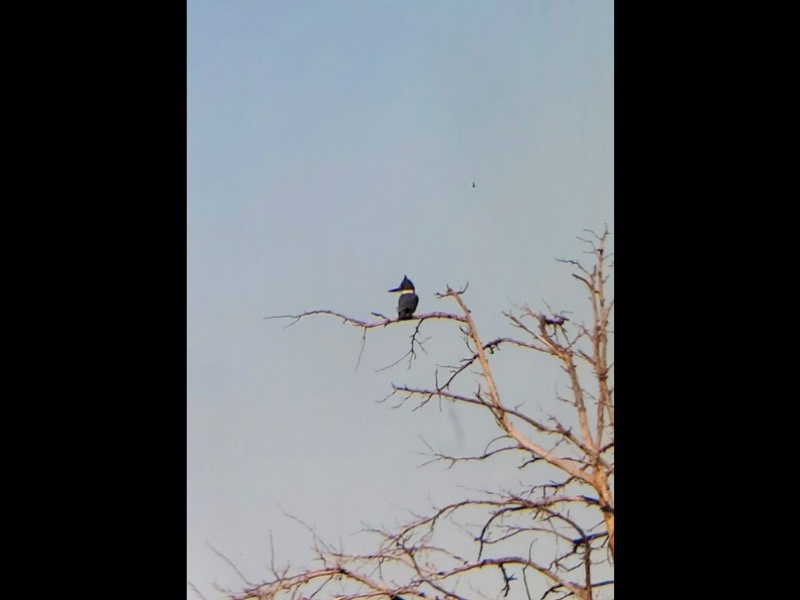kingfisher: (390, 275, 419, 322)
